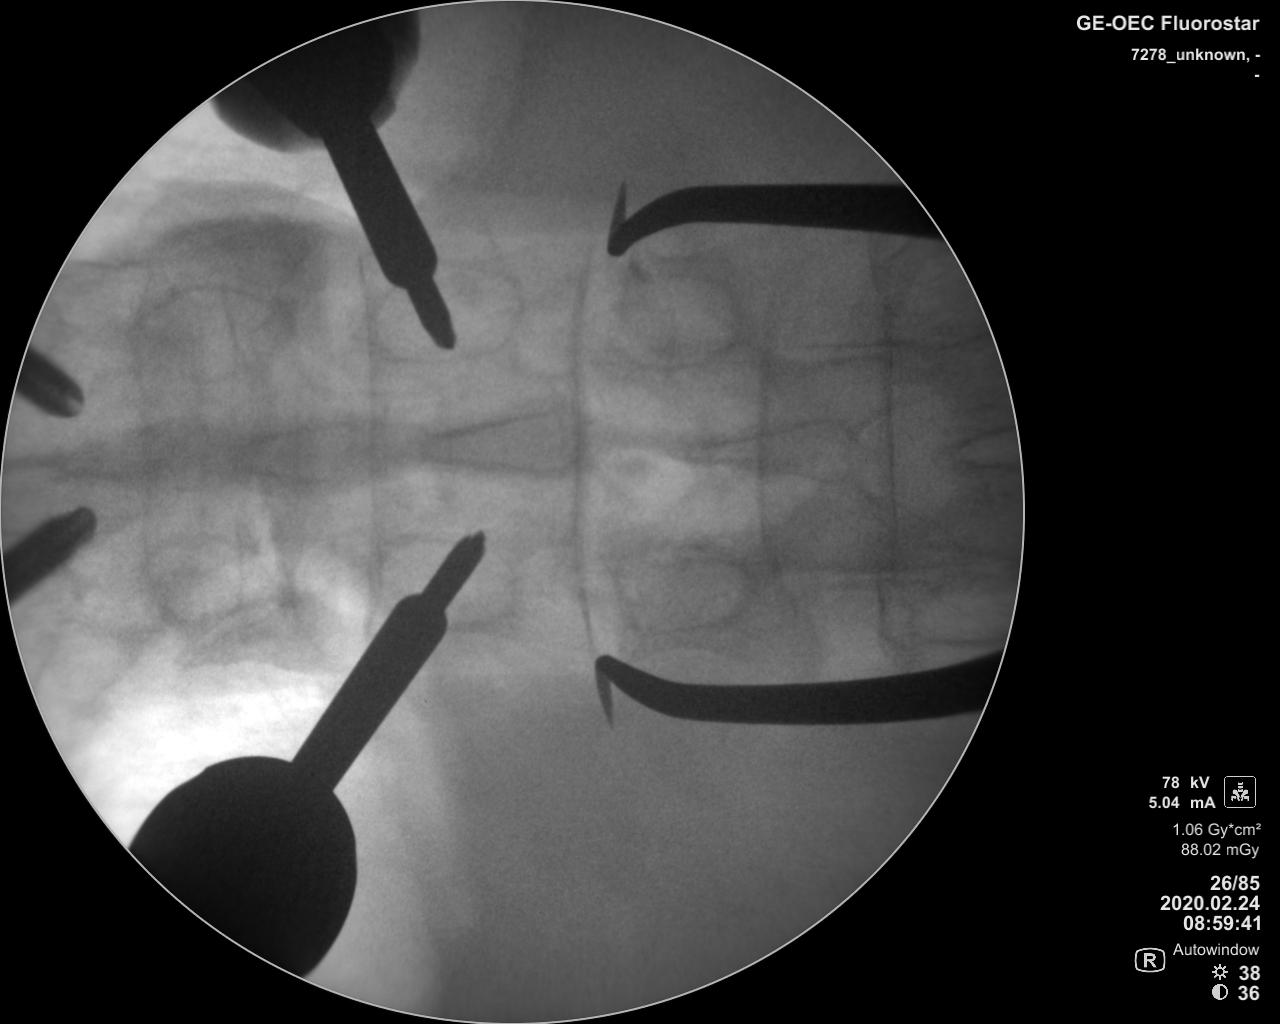eyes: (372, 262, 522, 364), (132, 286, 286, 382), (370, 537, 520, 625), (141, 532, 289, 620), (607, 549, 752, 633), (618, 273, 740, 366)
line: (565, 230, 602, 650), (353, 256, 386, 622), (754, 250, 782, 600), (875, 266, 903, 585)
nose: (17, 421, 235, 492), (670, 414, 862, 486), (419, 408, 608, 478), (234, 416, 419, 485)
